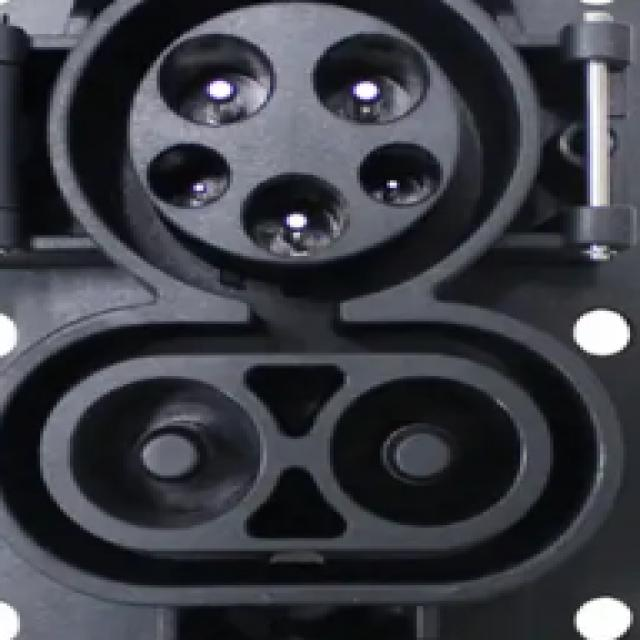CCS1: (45, 0, 585, 637)
